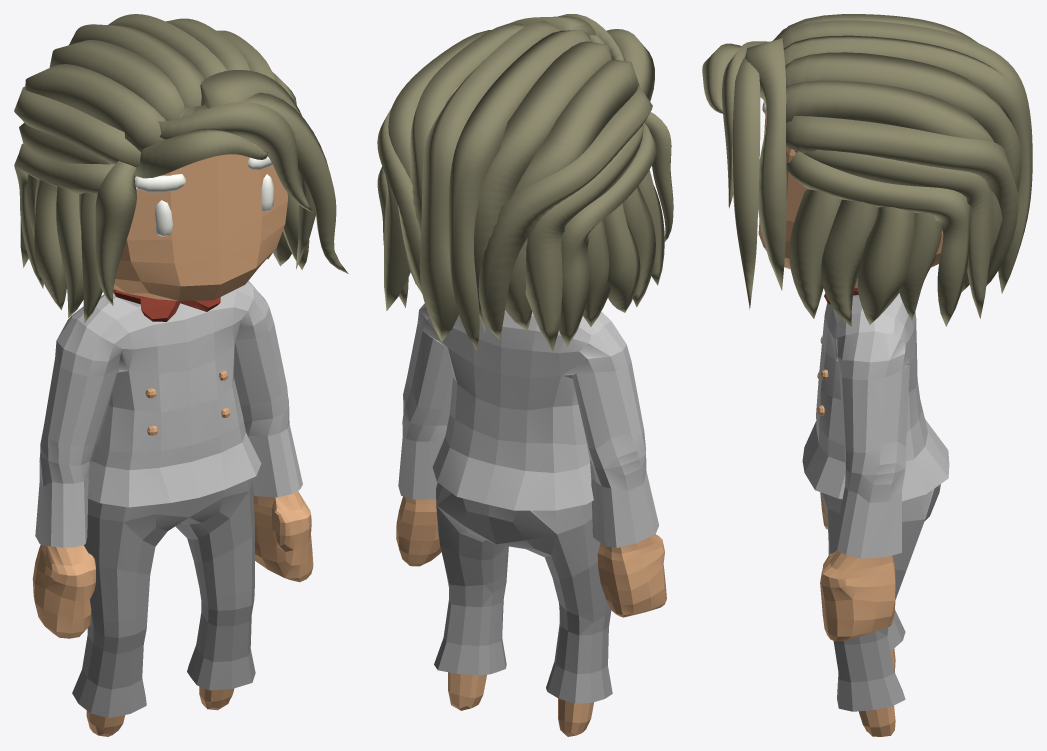
File: debout-chef-female.glb
3 views of the same model, side by side, from view 1: azimuth 30°, elevation 25°; view 2: azimuth 150°, elevation 25°; view 3: azimuth 270°, elevation 25° (orthographic). The views are drawn at different scales.
Visible parts, largest first — view 1: Cube004_5, Cube004_1, Cube004, Cube004_3, Cube004_4, Cube004_2; view 2: Cube004_5, Cube004_1, Cube004_3, Cube004; view 3: Cube004_5, Cube004_1, Cube004, Cube004_3.
Boxes of the visible parts, x1=… form: Cube004_5: x1=14, y1=14, x2=348, y2=323; Cube004_1: x1=35, y1=281, x2=302, y2=547; Cube004: x1=32, y1=143, x2=313, y2=736; Cube004_3: x1=72, y1=478, x2=255, y2=717; Cube004_4: x1=134, y1=156, x2=273, y2=236; Cube004_2: x1=113, y1=289, x2=220, y2=321; Cube004_5: x1=377, y1=14, x2=673, y2=351; Cube004_1: x1=398, y1=303, x2=658, y2=547; Cube004_3: x1=434, y1=482, x2=612, y2=703; Cube004: x1=396, y1=81, x2=666, y2=736; Cube004_5: x1=702, y1=14, x2=1032, y2=326; Cube004_1: x1=802, y1=293, x2=949, y2=558; Cube004: x1=758, y1=106, x2=943, y2=736; Cube004_3: x1=821, y1=484, x2=940, y2=711.
Size of the model in its own units: 0.6683 by 1.64 by 0.7226.
